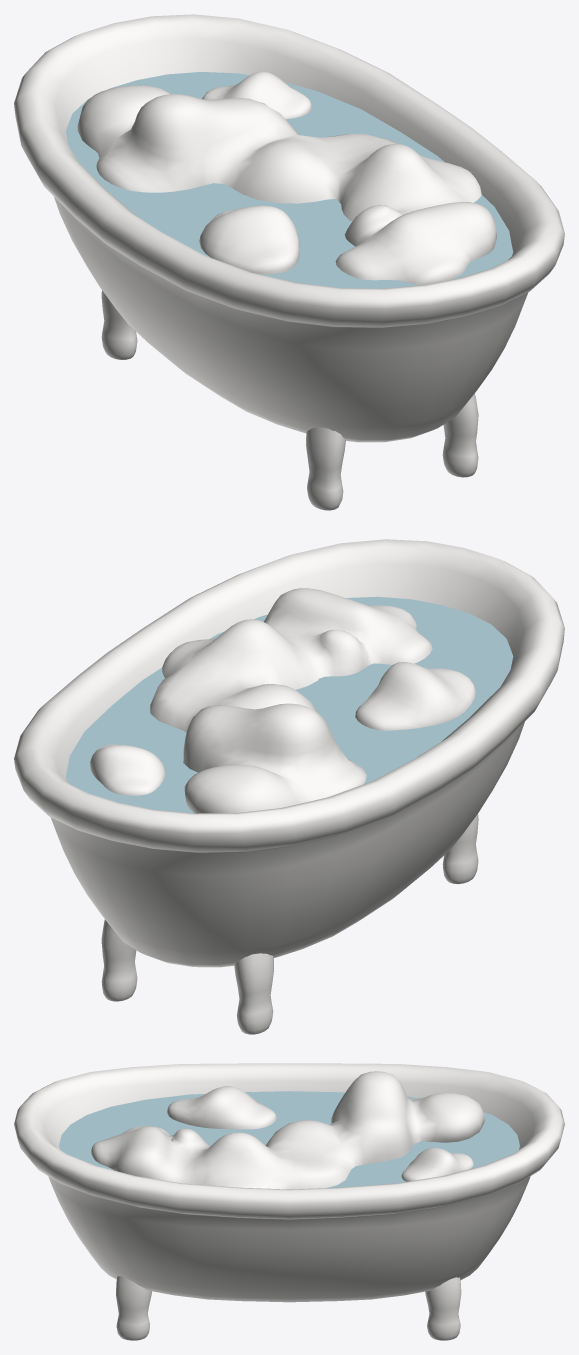
File: Bath_1.glb
The picture shows the model from 3 angles, top to bottom: view 1: azimuth 30°, elevation 25°; view 2: azimuth 150°, elevation 25°; view 3: azimuth 270°, elevation 25°; orthographic projection. The views are drawn at different scales.
Parts seen in each view (by area): view 1: Bath_1; view 2: Bath_1; view 3: Bath_1.
Boxes of the visible parts, x1=… form: Bath_1: x1=14, y1=14, x2=564, y2=510; Bath_1: x1=14, y1=539, x2=564, y2=1034; Bath_1: x1=14, y1=1063, x2=564, y2=1340.
Bounding box in the file's own units: 1.63 × 1.19 × 2.74.
Materials: 1 (1 with a texture image).
